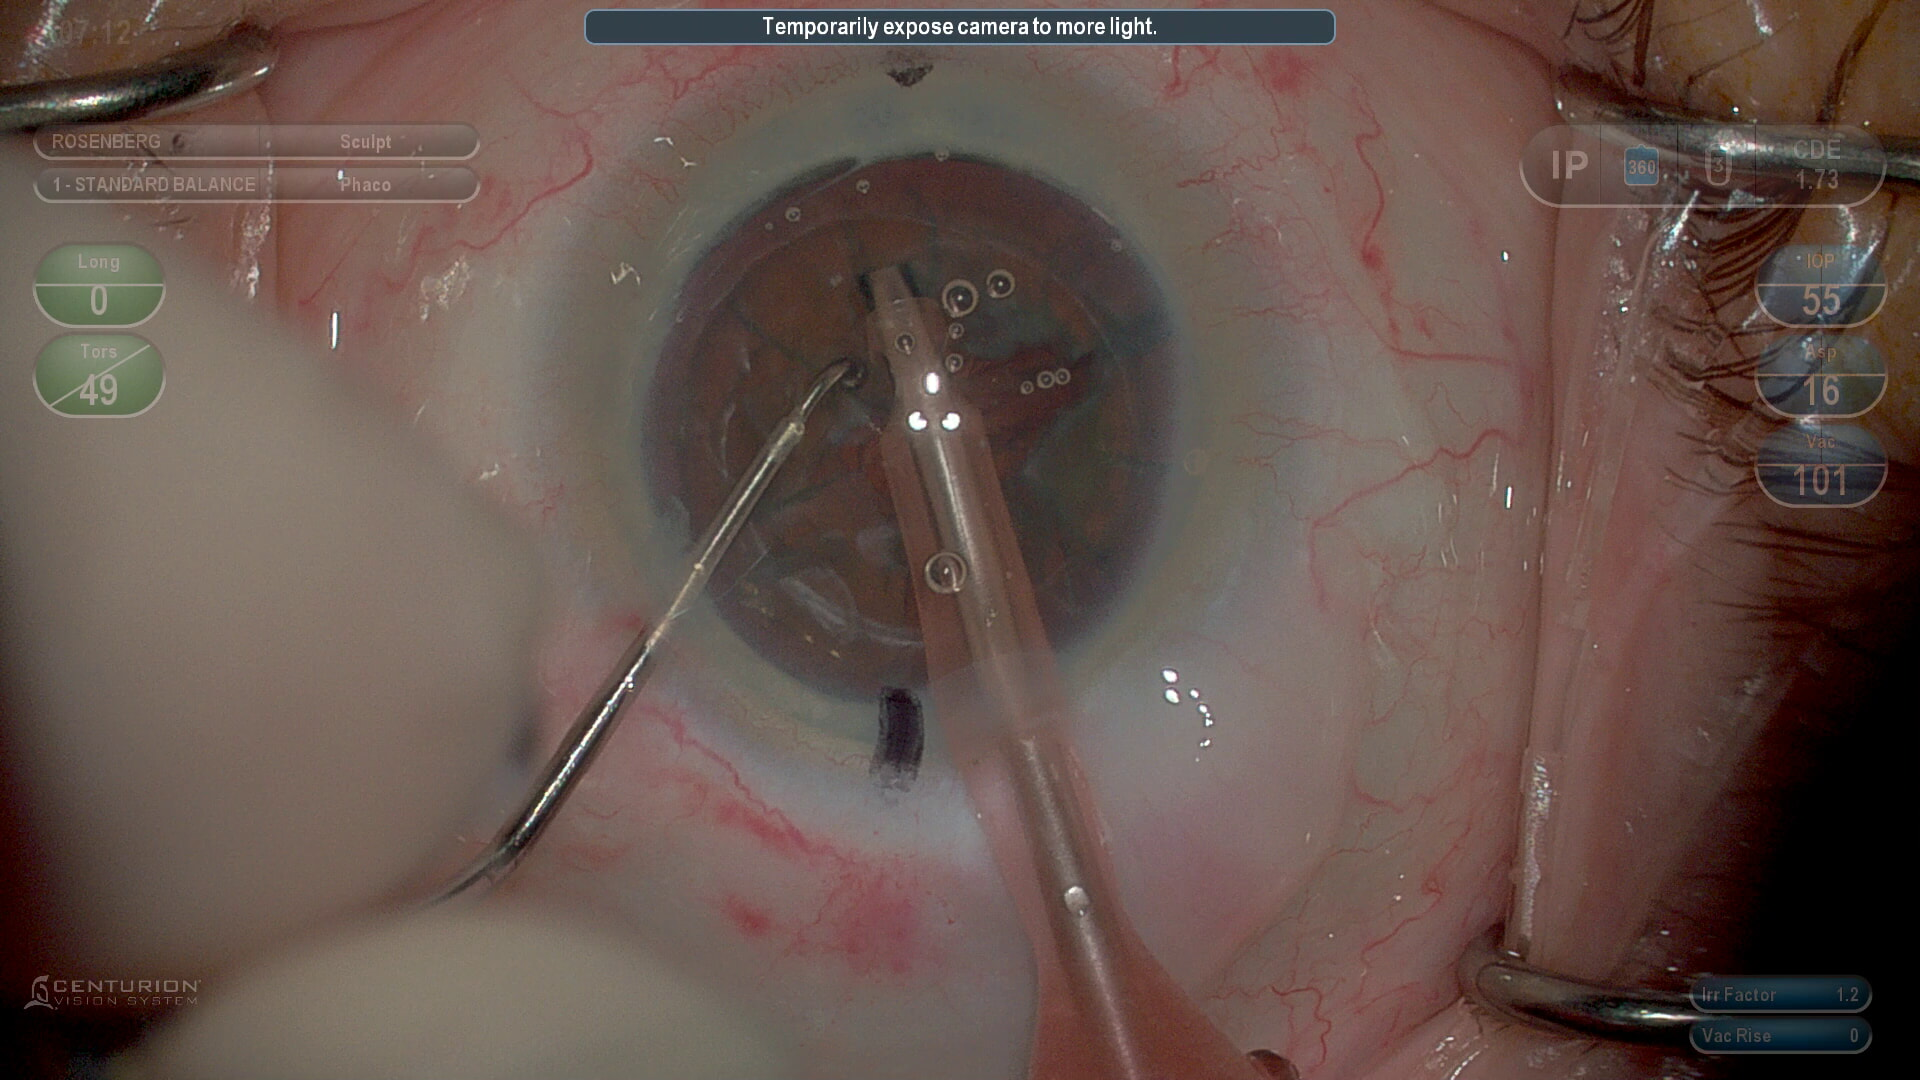iris: (583, 68, 1264, 755)
pupil: (655, 153, 1177, 690)
